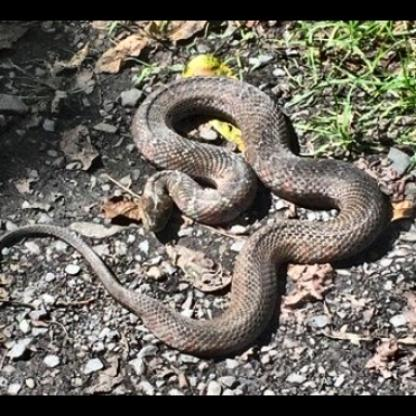Snake: (5, 70, 416, 359)
